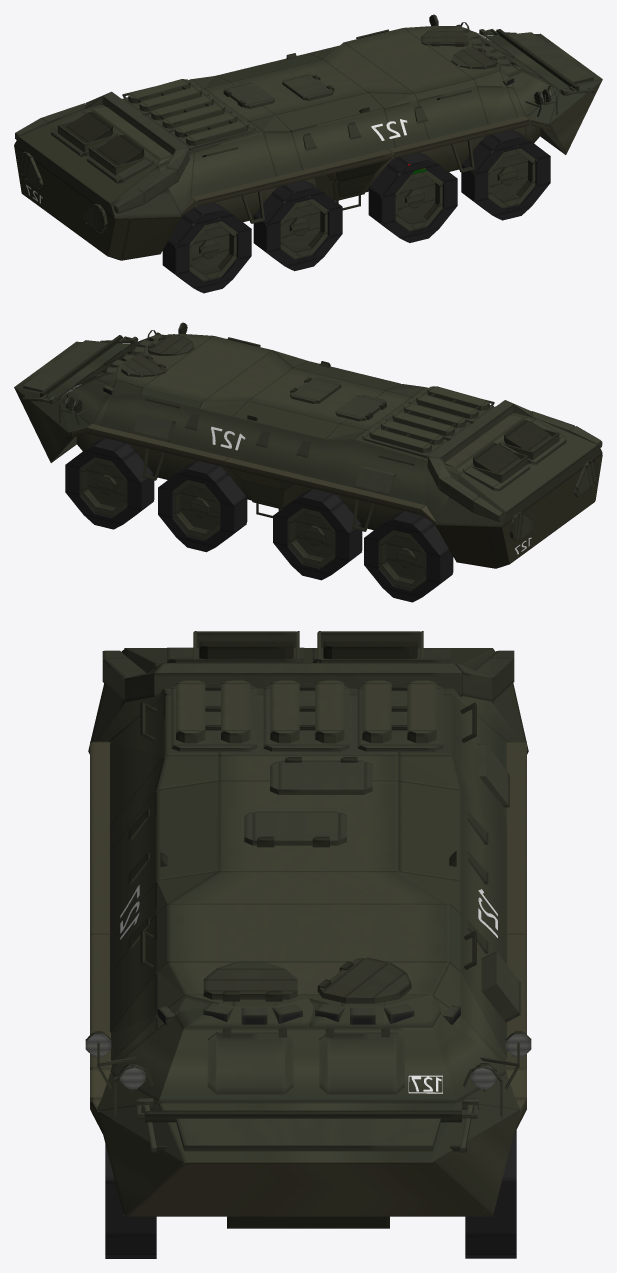
Rendered from btr70.obj.
3 renders of one model, top to bottom at view 1: azimuth 30°, elevation 25°; view 2: azimuth 150°, elevation 25°; view 3: azimuth 270°, elevation 25°, orthographic. The views are drawn at different scales.
Parts seen in each view (by area): view 1: bodyModel5, bodyModel2, bodyModel34, bodyModel36, bodyModel39, bodyModel0, bodyModel8, bodyModel41, bodyModel38, bodyModel23, bodyModel1, bodyModel37 (+53 smaller); view 2: bodyModel4, bodyModel2, bodyModel36, bodyModel39, bodyModel33, bodyModel0, bodyModel41, bodyModel23, bodyModel38, bodyModel9, bodyModel1, bodyModel7 (+55 smaller); view 3: bodyModel16, bodyModel2, bodyModel15, bodyModel0, bodyModel5, bodyModel4, bodyModel190, bodyModel1, bodyModel41, bodyModel139, bodyModel34, bodyModel166 (+58 smaller).
Part boxes in pixels (x1,y1,x2,y2): bodyModel5: (275,93,394,170); bodyModel2: (344,28,472,102); bodyModel34: (190,122,276,197); bodyModel36: (14,145,129,260); bodyModel39: (19,110,168,204); bodyModel0: (230,60,367,114); bodyModel8: (414,79,487,139); bodyModel41: (191,115,392,206); bodyModel38: (14,137,181,218); bodyModel23: (129,127,525,222); bodyModel1: (323,42,413,109); bodyModel37: (110,204,181,260); bodyModel4: (222,401,340,478); bodyModel2: (144,336,272,402); bodyModel36: (487,454,602,568); bodyModel39: (448,419,597,512); bodyModel33: (341,430,426,505); bodyModel0: (249,368,385,424); bodyModel41: (224,457,425,514); bodyModel23: (91,435,435,530); bodyModel38: (435,445,602,527); bodyModel9: (129,387,202,447); bodyModel1: (203,350,293,401); bodyModel7: (188,401,247,455); bodyModel16: (124,1102,492,1216); bodyModel2: (167,903,449,962); bodyModel15: (110,1013,506,1101); bodyModel0: (218,780,398,871); bodyModel5: (110,780,218,940); bodyModel4: (398,781,506,940); bodyModel190: (176,1118,440,1151); bodyModel1: (167,871,449,904); bodyModel41: (90,741,526,934); bodyModel139: (154,663,462,696); bodyModel34: (110,694,218,824); bodyModel166: (327,1032,396,1094).
Size of the model in its own units: 138 by 35.83 by 52.
